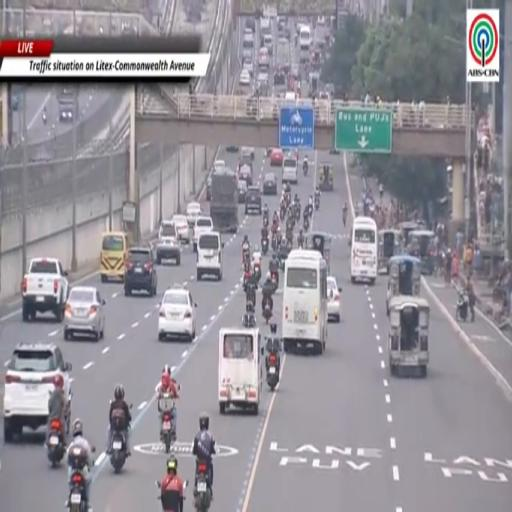bus: (282, 250, 327, 354), (351, 217, 378, 284)
car: (3, 343, 71, 442), (63, 286, 105, 341), (158, 285, 197, 342), (125, 247, 157, 296), (197, 232, 224, 281), (156, 220, 181, 265), (193, 216, 213, 252), (327, 276, 341, 323), (281, 154, 298, 184), (172, 215, 190, 243), (245, 186, 261, 214), (186, 202, 201, 227), (263, 172, 277, 195), (239, 164, 253, 185), (270, 149, 284, 166), (259, 47, 269, 68), (238, 181, 247, 203), (243, 59, 254, 76), (241, 147, 254, 161), (240, 70, 250, 86), (245, 18, 255, 33), (257, 72, 269, 84), (213, 159, 226, 170), (206, 176, 211, 201), (227, 143, 239, 153), (291, 63, 299, 78), (243, 48, 253, 59), (244, 27, 253, 36)
jeepney: (388, 296, 429, 376), (387, 255, 421, 315), (409, 230, 436, 275), (378, 230, 401, 274), (306, 232, 330, 271), (399, 221, 421, 247), (319, 164, 333, 190)
motorcycle: (67, 447, 89, 511), (110, 414, 127, 473), (159, 394, 176, 453), (47, 419, 65, 468), (194, 461, 211, 511), (267, 352, 279, 391), (456, 294, 468, 322), (158, 494, 176, 511), (263, 298, 272, 324), (246, 286, 255, 305), (243, 314, 255, 328), (243, 269, 250, 291), (271, 272, 278, 292), (254, 264, 261, 282), (286, 216, 294, 231), (242, 249, 250, 264), (261, 238, 268, 255), (280, 204, 286, 221), (286, 231, 293, 245), (295, 204, 300, 221), (308, 204, 314, 218), (303, 217, 309, 231), (272, 235, 277, 251), (263, 214, 269, 227), (286, 239, 292, 251), (315, 197, 320, 211), (343, 210, 347, 227), (298, 237, 304, 248), (42, 111, 47, 124), (303, 163, 308, 175)
truck: (22, 259, 68, 322), (210, 167, 238, 233), (57, 85, 79, 122), (276, 38, 291, 73)
